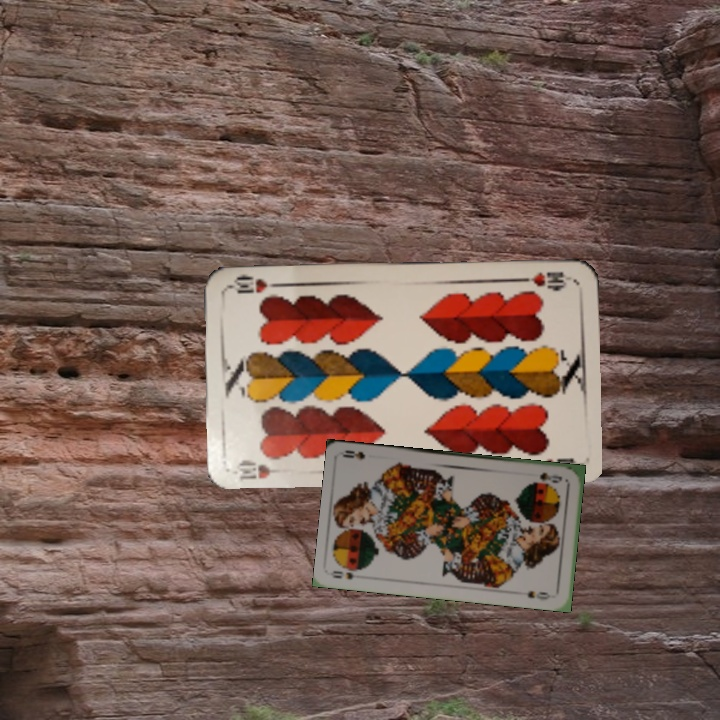H10: (232, 455, 288, 483), (516, 268, 569, 291)
SO: (536, 469, 565, 485), (328, 567, 356, 582)
